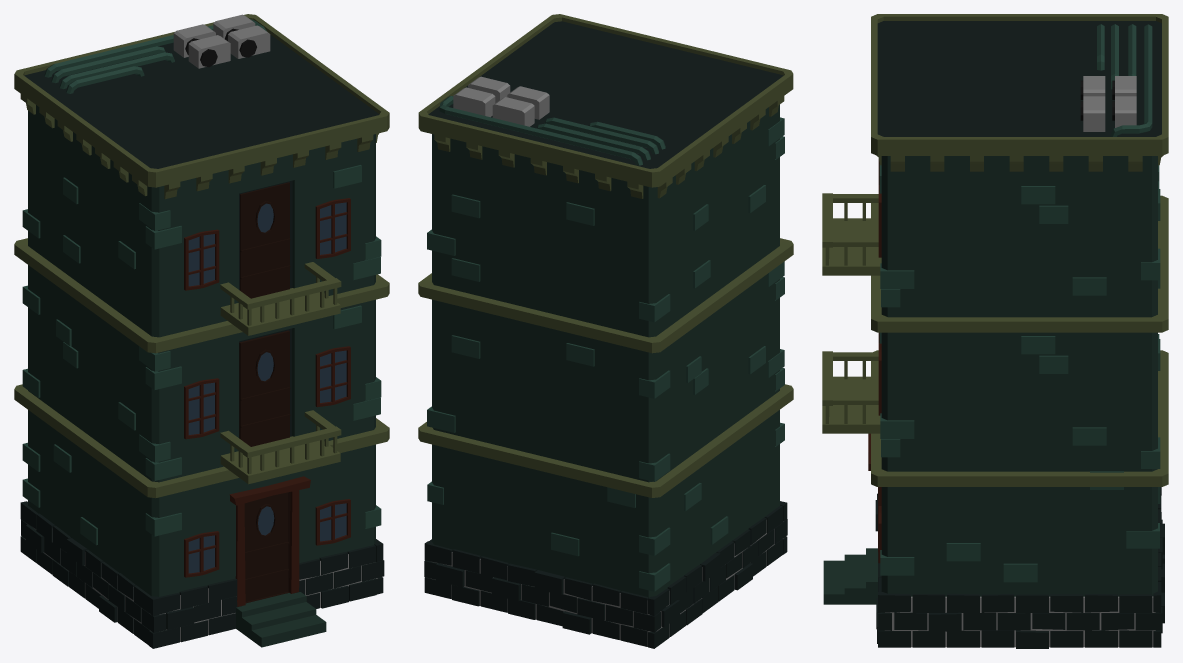
The model's file is 3Story_Balcony.obj.
3 views of the same model, side by side, from view 1: azimuth 30°, elevation 25°; view 2: azimuth 150°, elevation 25°; view 3: azimuth 270°, elevation 25° (orthographic). The views are drawn at different scales.
Visible parts, largest first — view 1: 3Story_Balcony_Mat_Cube.026; view 2: 3Story_Balcony_Mat_Cube.026; view 3: 3Story_Balcony_Mat_Cube.026.
Part boxes in pixels (bbox=[...]): 3Story_Balcony_Mat_Cube.026: bbox=[14, 14, 389, 648]; 3Story_Balcony_Mat_Cube.026: bbox=[418, 14, 793, 648]; 3Story_Balcony_Mat_Cube.026: bbox=[822, 14, 1168, 648].
Bounding box in the file's own units: 2.16 × 4.21 × 2.51.
